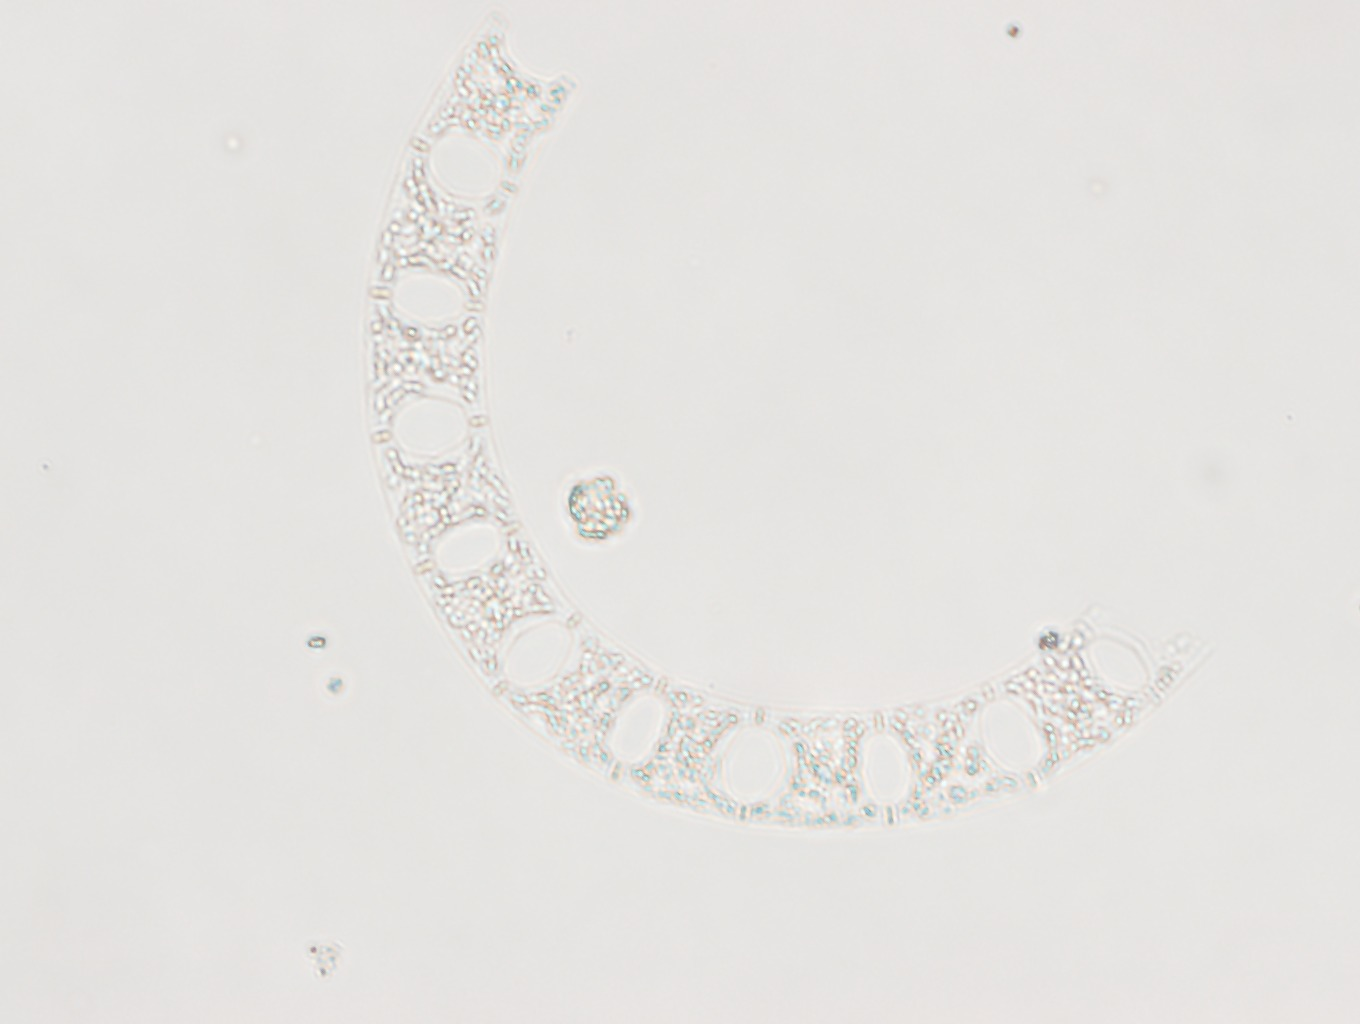eucampia: (366, 16, 1209, 827)
